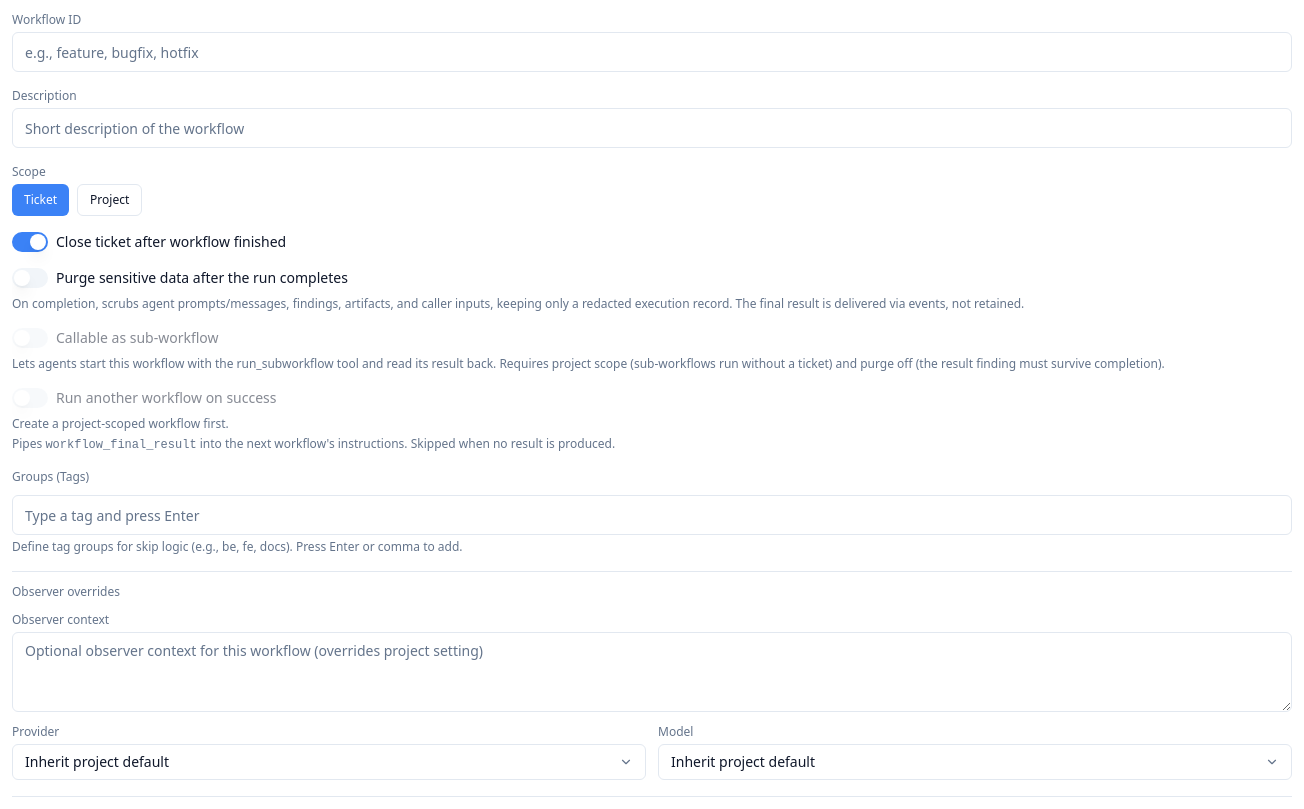
Test: WorkflowDefForm - groups chip input › adding chips › adds chip on comma key
Type "fe," into the field with placeholder "Type a tag and press Enter" at (652, 515), box x1=12 y1=495 x2=1292 y2=535
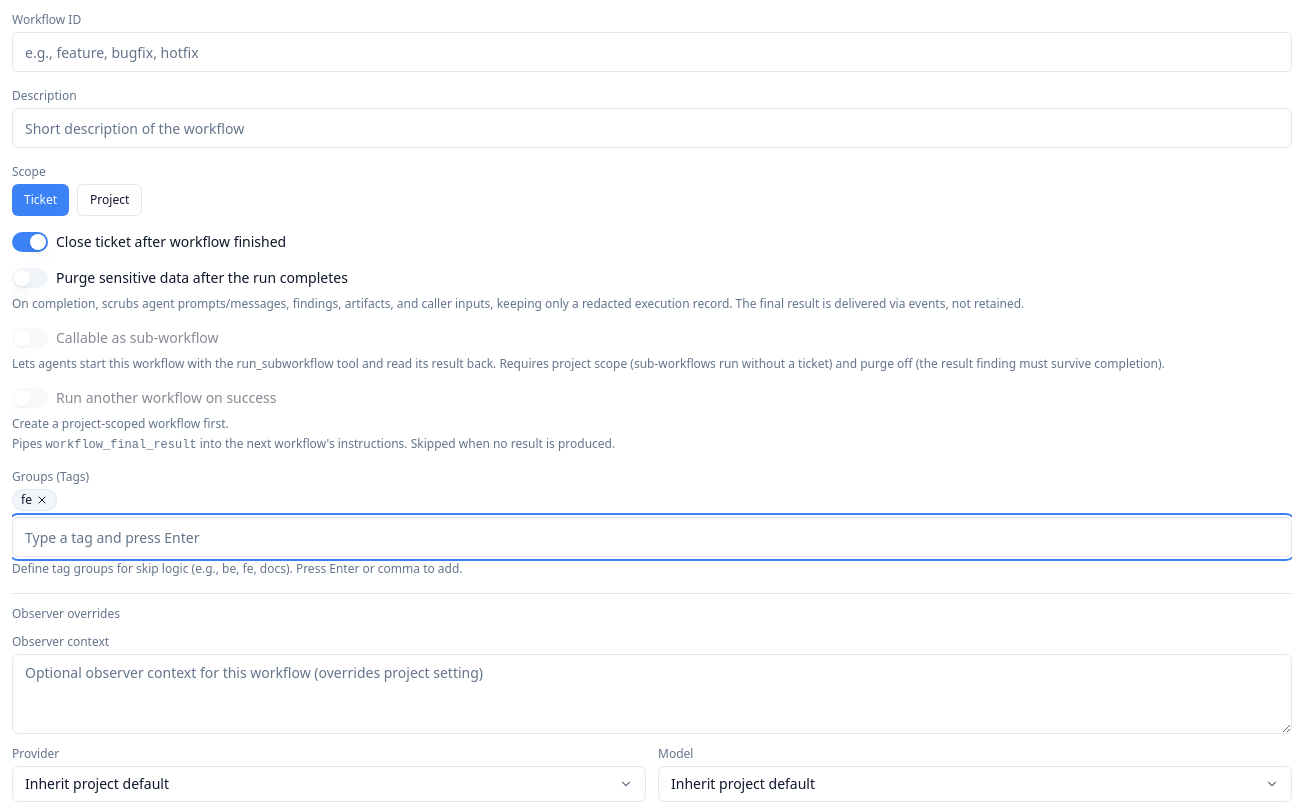
Check: the field with placeholder "Type a tag and press Enter" is empty, box x1=12 y1=517 x2=1292 y2=557
Check: the text "fe" is shown, box x1=12 y1=489 x2=57 y2=511
